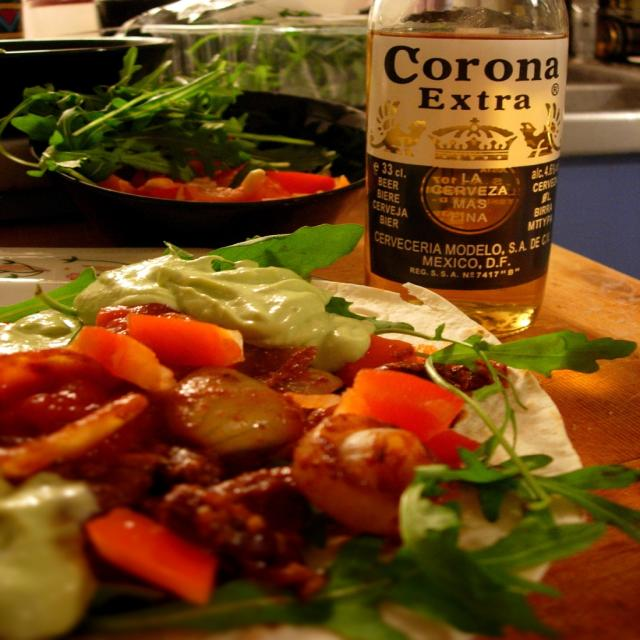corona: (367, 36, 570, 292)
